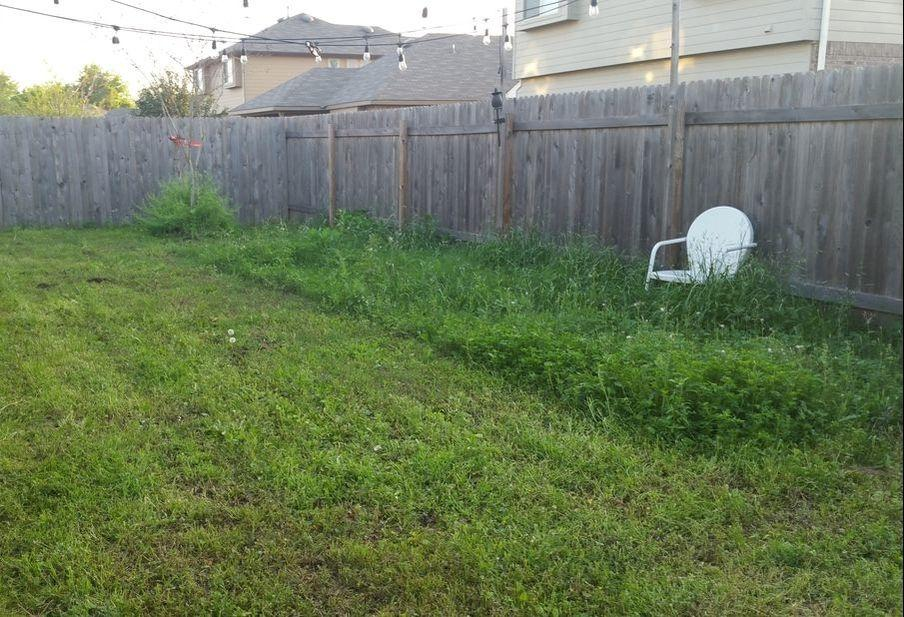overgrown grass: (201, 215, 899, 446)
